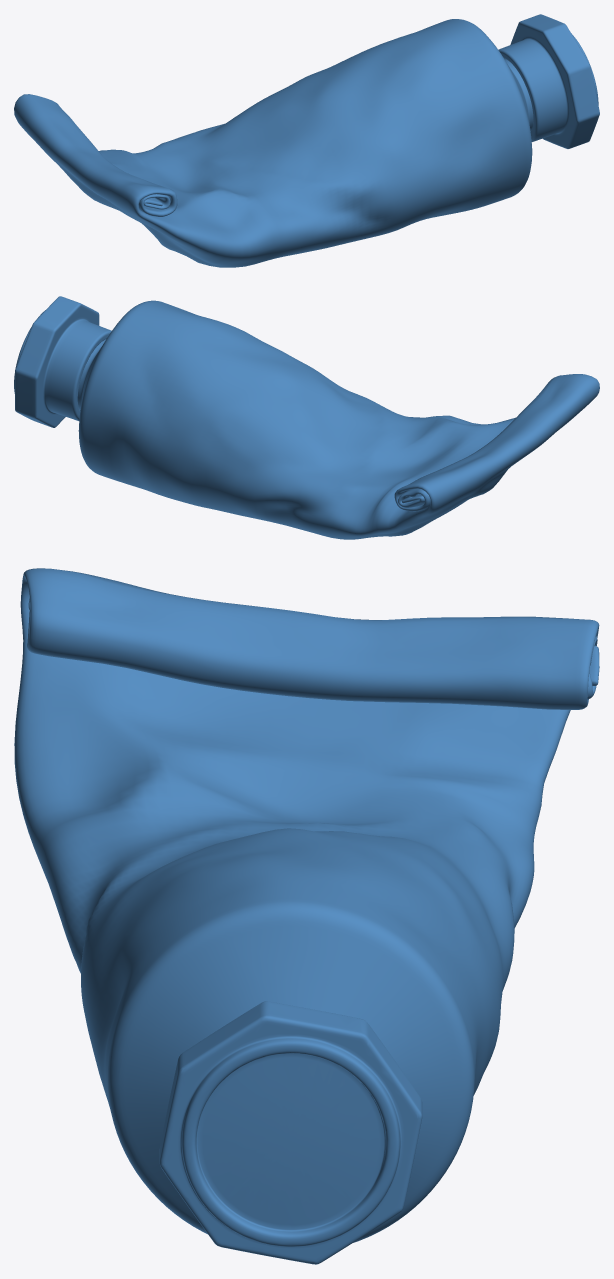
The model's file is paint_container_tube_a01.glb.
The picture shows the model from 3 angles, top to bottom: view 1: azimuth 30°, elevation 25°; view 2: azimuth 150°, elevation 25°; view 3: azimuth 270°, elevation 25°; orthographic projection. The views are drawn at different scales.
Size of the model in its own units: 0.0687 by 0.0224 by 0.0349.
